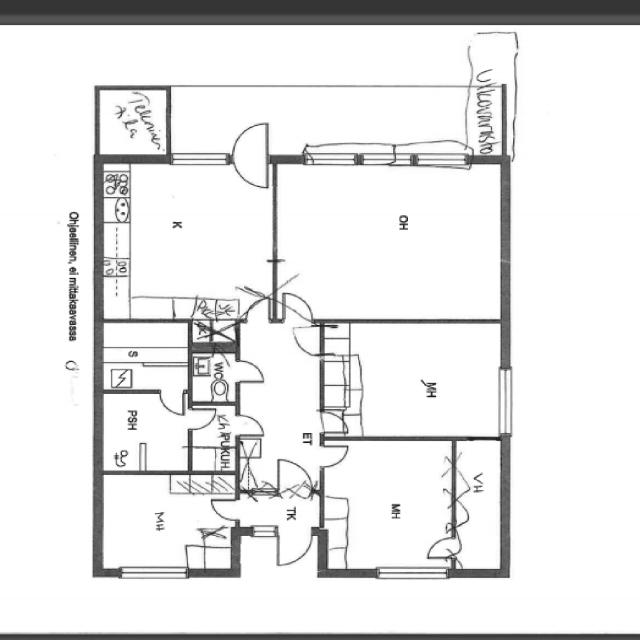door: (109, 388, 191, 465), (229, 119, 273, 193), (274, 527, 314, 570), (274, 456, 314, 498), (278, 289, 318, 324), (230, 356, 270, 387), (422, 533, 460, 564), (289, 323, 323, 357), (230, 411, 269, 440), (205, 495, 242, 525), (154, 387, 189, 418), (317, 441, 354, 469), (186, 406, 218, 433), (316, 409, 348, 436), (244, 296, 272, 325)
window: (491, 359, 519, 441), (400, 141, 474, 172), (296, 145, 390, 169), (370, 564, 453, 583), (166, 148, 232, 170), (111, 564, 191, 582), (246, 522, 280, 542)
zone: (273, 159, 507, 323), (95, 158, 278, 321), (319, 321, 504, 439), (321, 436, 455, 572), (97, 471, 237, 573), (97, 391, 189, 472), (98, 319, 191, 391), (190, 404, 238, 466), (190, 346, 237, 406)
